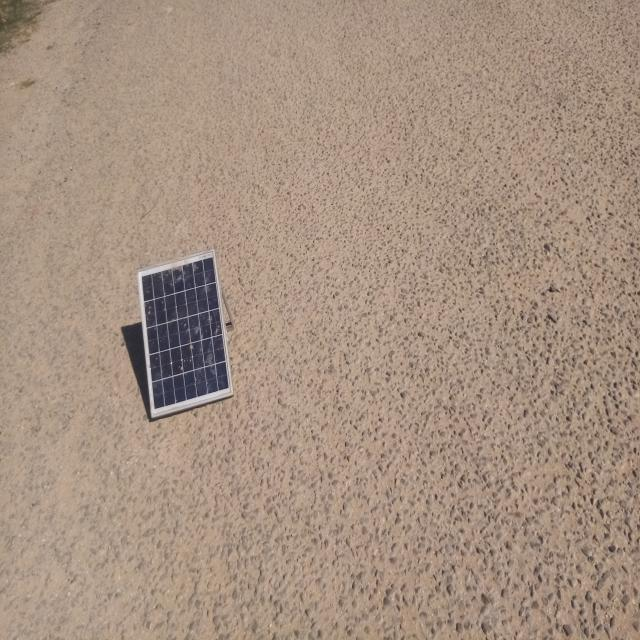faulty: (138, 250, 233, 416)
